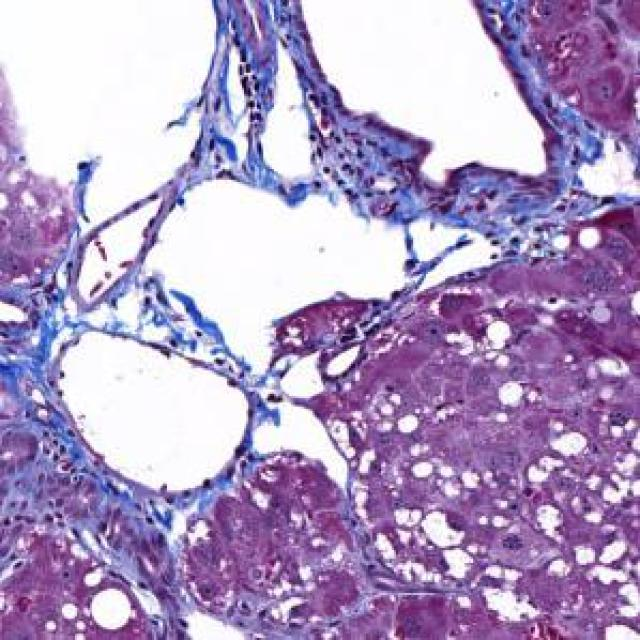fibrosis: (325, 116, 550, 231), (64, 466, 227, 586), (0, 302, 77, 490)
